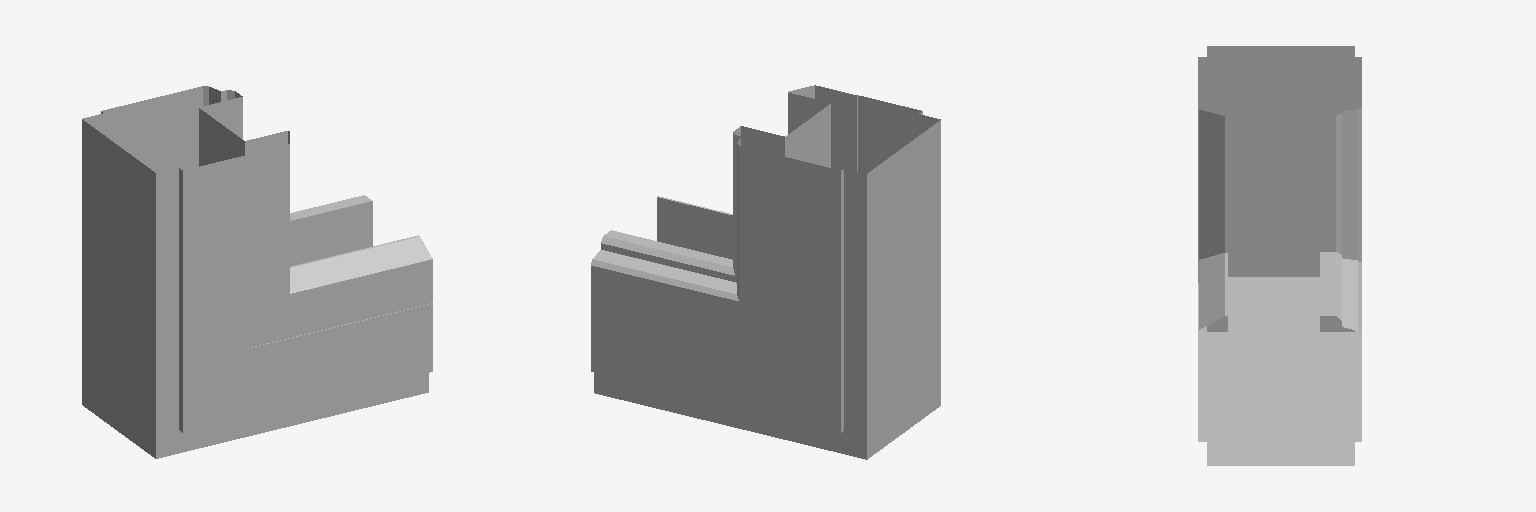
File: original-34.obj
3 views of the same model, side by side, from view 1: azimuth 30°, elevation 25°; view 2: azimuth 150°, elevation 25°; view 3: azimuth 270°, elevation 25° (orthographic).
Parts seen in each view (by area): view 1: BF_BL1/BF_BL/mesh284/mesh284-geometry#mesh284-geometry; view 2: BF_BL1/BF_BL/mesh284/mesh284-geometry#mesh284-geometry; view 3: BF_BL1/BF_BL/mesh284/mesh284-geometry#mesh284-geometry.
Boxes of the visible parts, x1=… form: BF_BL1/BF_BL/mesh284/mesh284-geometry#mesh284-geometry: x1=82, y1=86, x2=432, y2=458; BF_BL1/BF_BL/mesh284/mesh284-geometry#mesh284-geometry: x1=591, y1=85, x2=940, y2=459; BF_BL1/BF_BL/mesh284/mesh284-geometry#mesh284-geometry: x1=1198, y1=46, x2=1361, y2=465.
Size of the model in its own units: 0.0978 by 0.0978 by 0.0505.